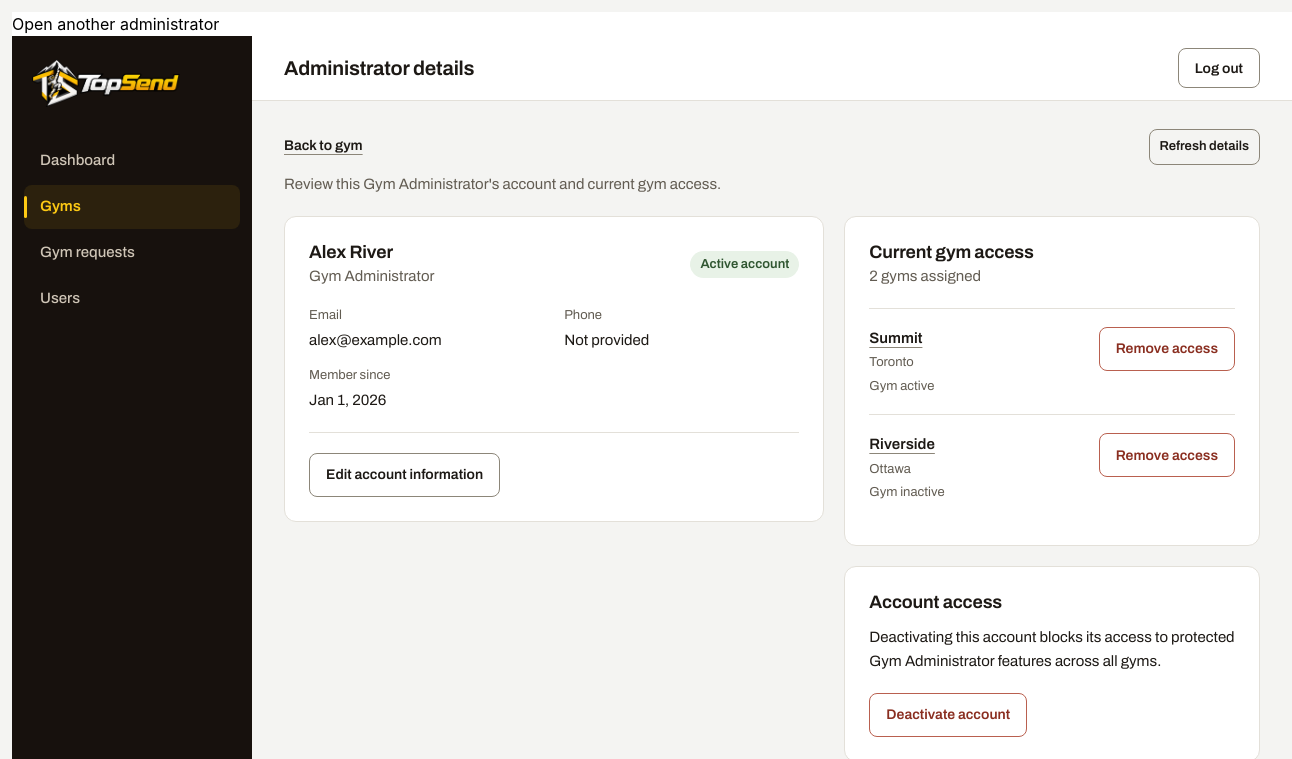
Test case: US007 administrator details and access controls (injected contract) › edits only enabled fields and saves only actual changes
The image size is (1292, 759).
Click the button "Edit account information" at (405, 475), box [309,453,500,497]
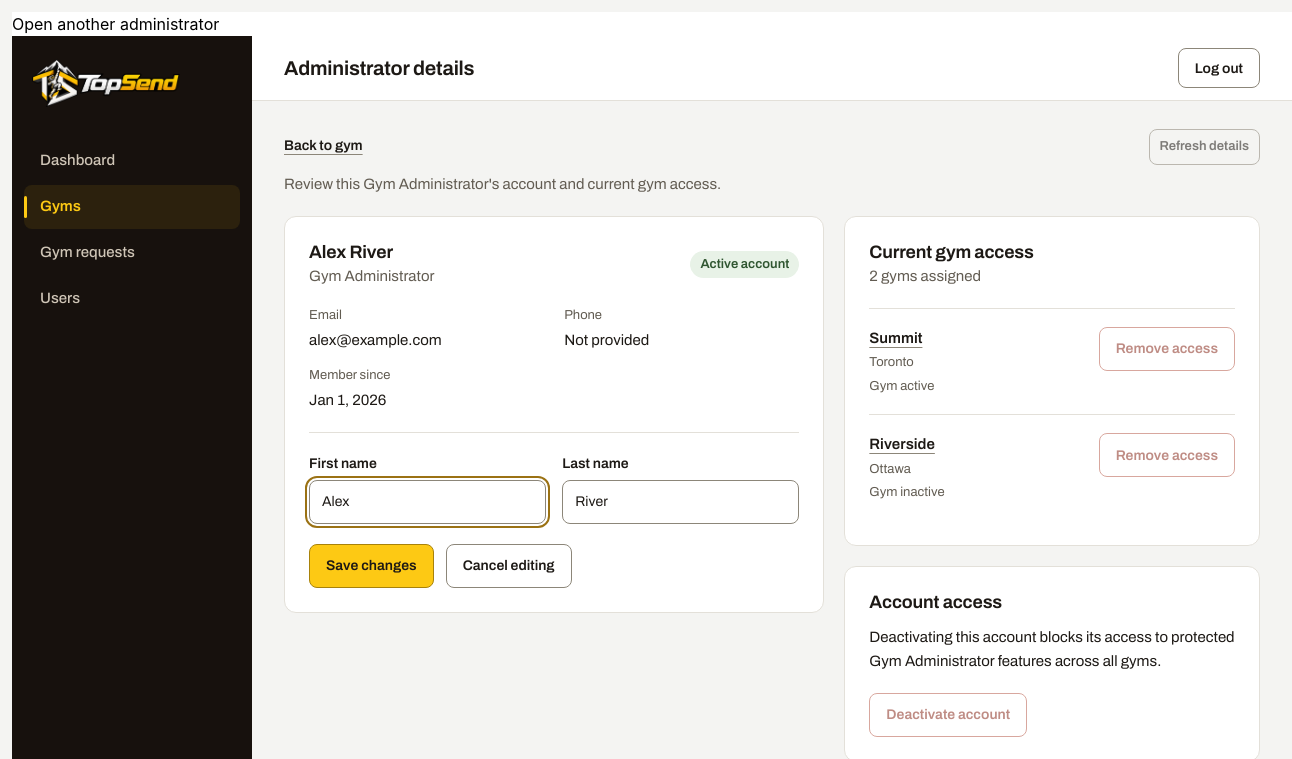
Replace the text in the field labelled "First name" with " Jordan " at (428, 502), box [309,480,546,524]
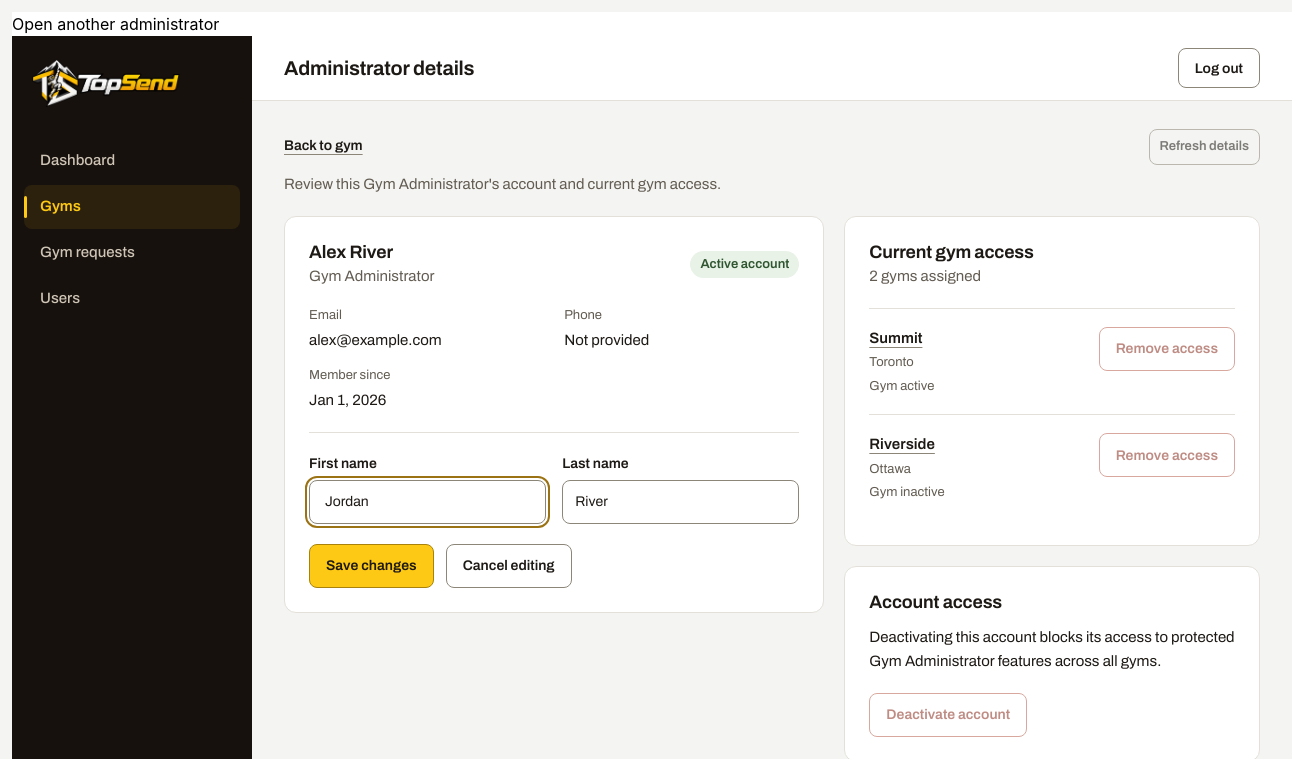
Click the button "Save changes" at (371, 566), box [309,544,434,588]
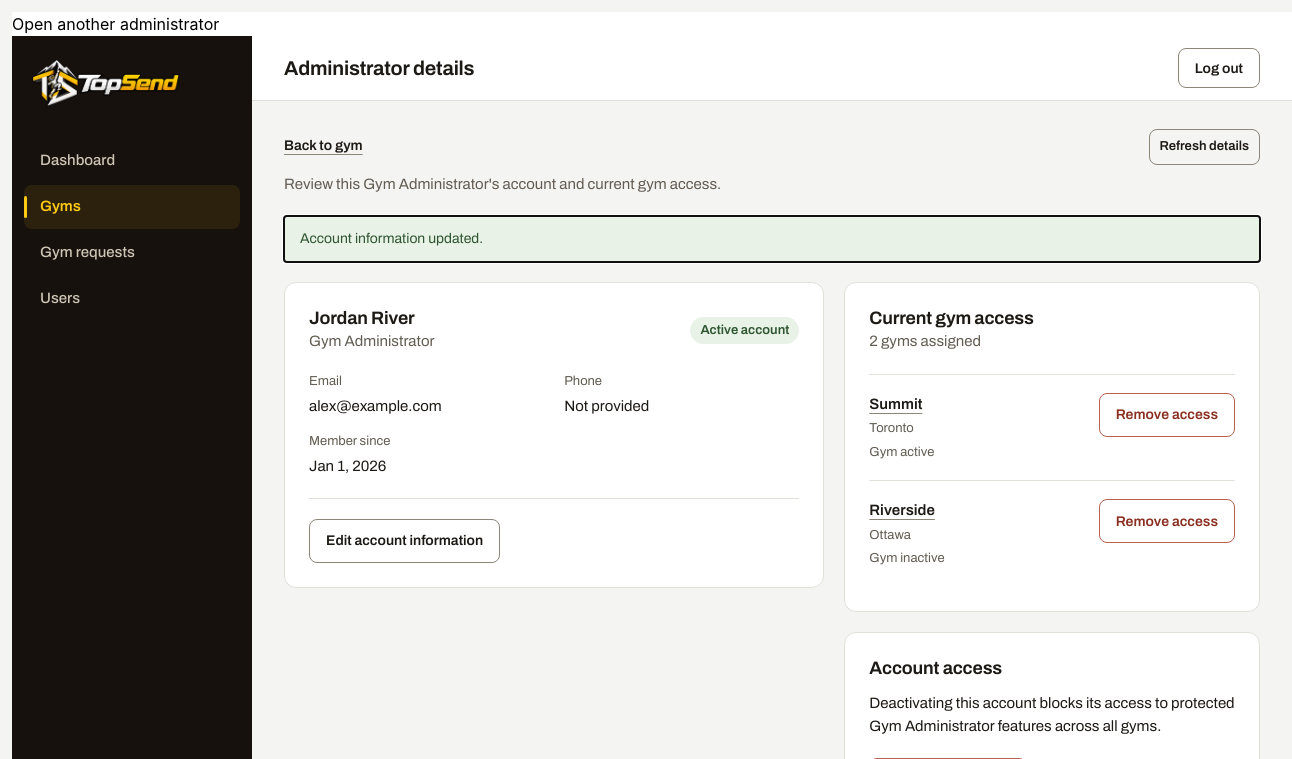
Check: the text "Account information updated." is shown, box [284,216,1260,262]
Check: the heading "Jordan River" is shown, box [309,308,415,328]
